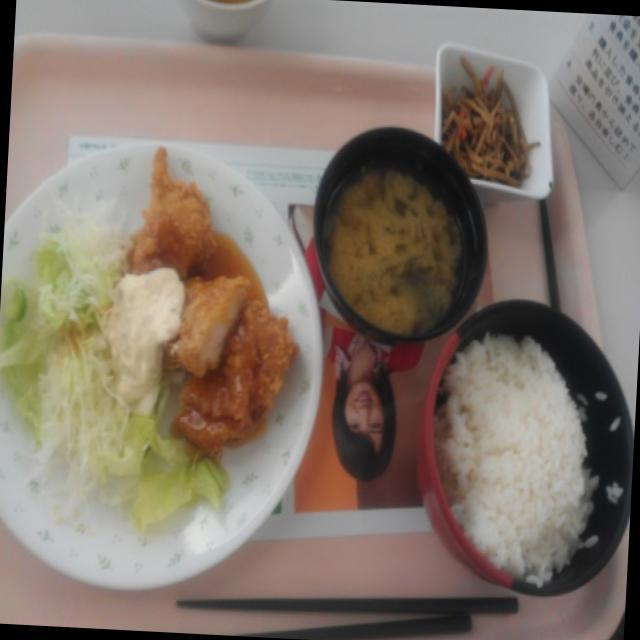Rice: (437, 331, 628, 575)
